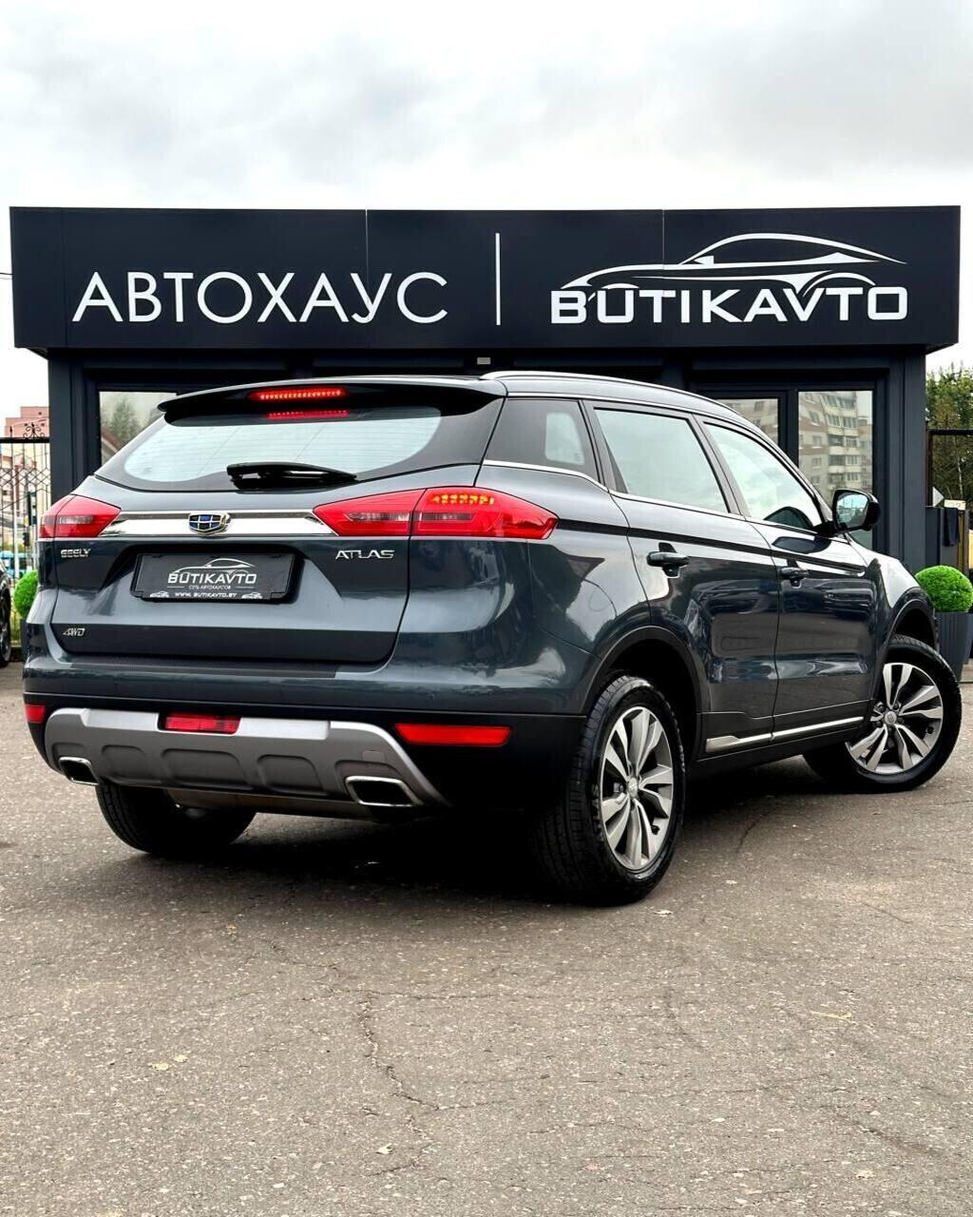Atlas_2016-2023: (17, 372, 964, 903)
